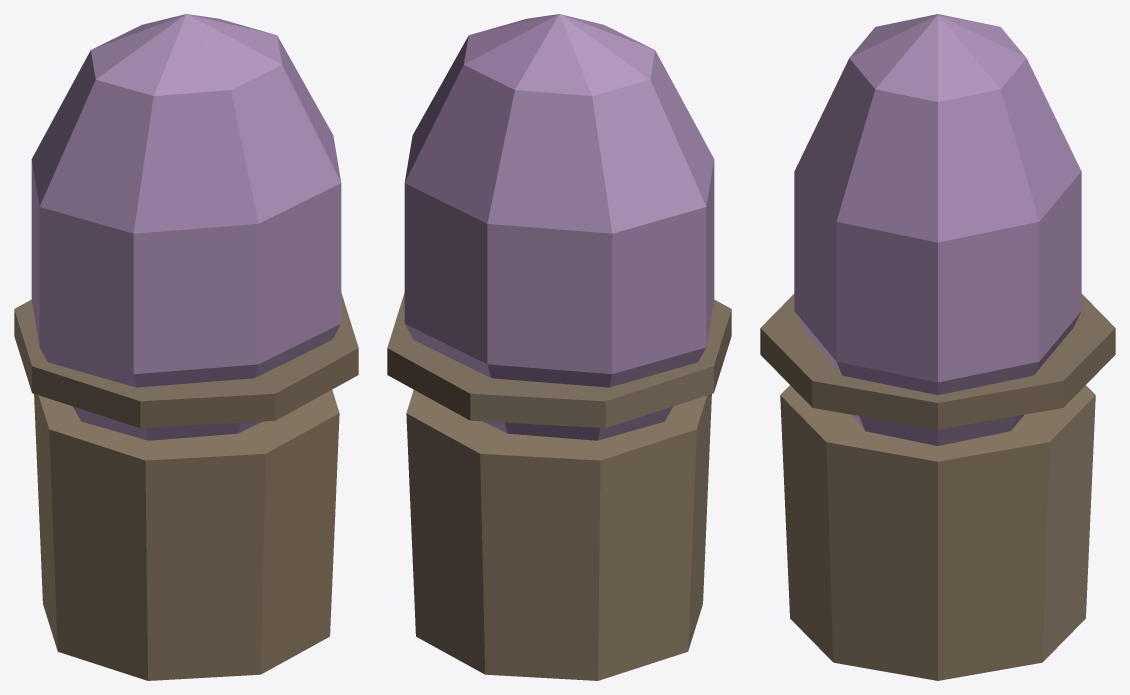
The model's file is body.glb.
The picture shows the model from 3 angles, left to right: view 1: azimuth 30°, elevation 25°; view 2: azimuth 150°, elevation 25°; view 3: azimuth 270°, elevation 25°; orthographic projection.
Visible parts, largest first — view 1: body2; view 2: body2; view 3: body2.
Part boxes in pixels (x1,y1,x2,y2): body2: [14, 14, 358, 680]; body2: [387, 14, 731, 680]; body2: [760, 14, 1115, 680].
Size of the model in its own units: 0.72 by 1.35 by 0.72.
